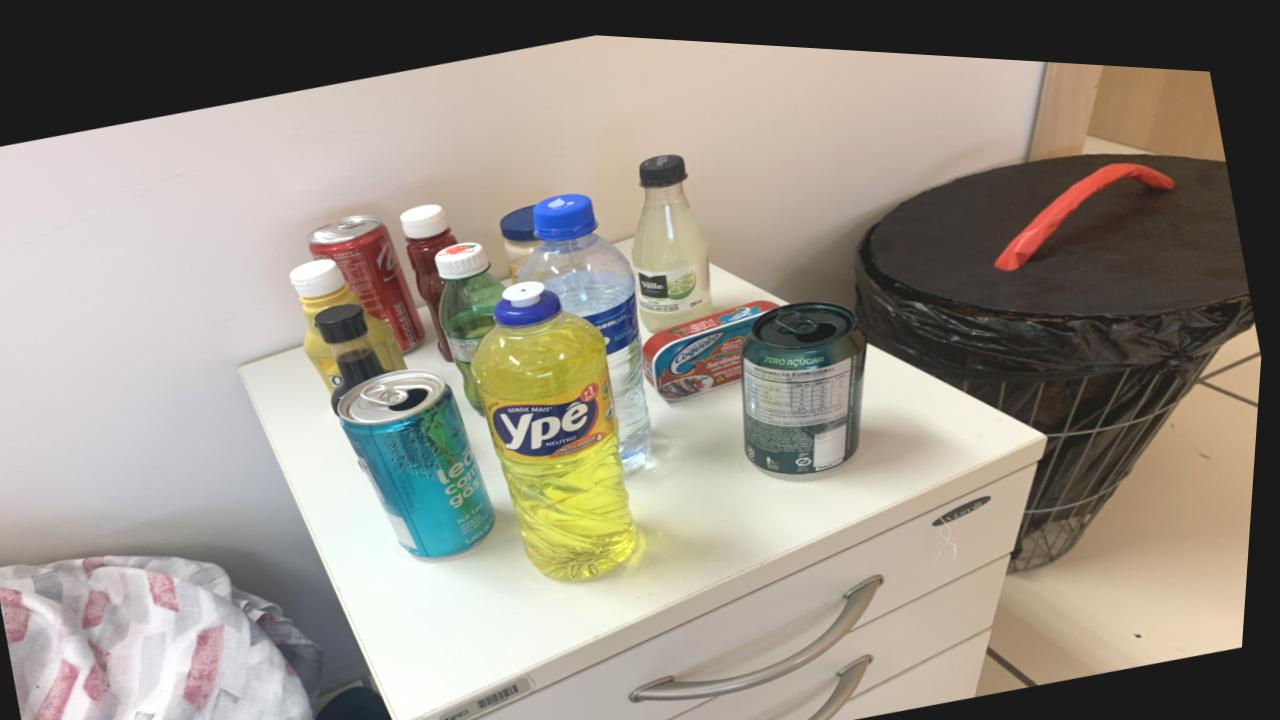Coke-Drinks: (310, 210, 429, 346)
Detergent-Cleanup_Items: (475, 274, 644, 572)
English_Sauce-Pantry_Items: (319, 299, 392, 409)
Guarana-Drinks: (438, 236, 508, 409)
Guarana_Can-Drinks: (744, 291, 871, 467)
Ketchup-Pantry_Items: (403, 199, 461, 356)
Mayonnaise-Pantry_Items: (503, 198, 543, 275)
Mustard-Pantry_Items: (294, 254, 366, 386), (374, 312, 411, 366)
Soda-Drinks: (634, 146, 717, 325)
Tea-Drinks: (339, 363, 502, 554)
Tuna_Can-Pantry_Items: (647, 290, 782, 393)
Water_Bottle-Drinks: (521, 186, 657, 461)
